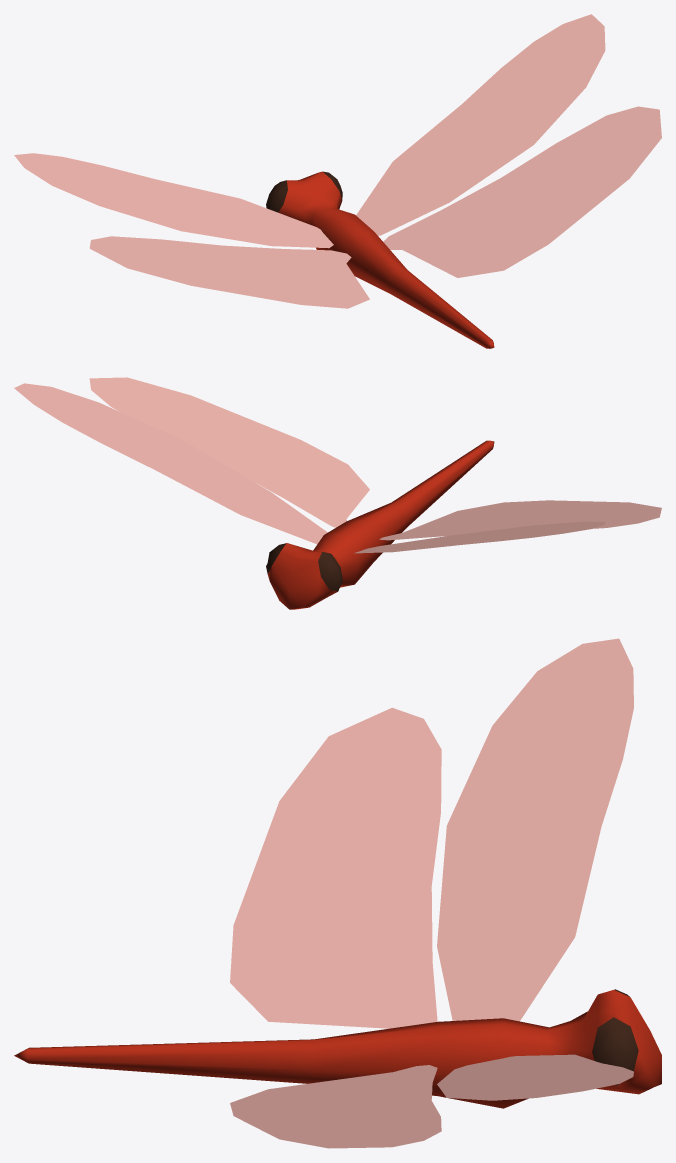
The model's file is Dragonfly_2.gltf.
3 views of the same model, one above another, from view 1: azimuth 30°, elevation 25°; view 2: azimuth 150°, elevation 25°; view 3: azimuth 270°, elevation 25° (orthographic). The views are drawn at different scales.
Parts seen in each view (by area): view 1: Dragonfly_2; view 2: Dragonfly_2; view 3: Dragonfly_2.
Part boxes in pixels (bbox=[...]): Dragonfly_2: bbox=[14, 14, 661, 348]; Dragonfly_2: bbox=[14, 377, 661, 609]; Dragonfly_2: bbox=[14, 638, 661, 1148].
Bounding box in the file's own units: 23.99 × 6.16 × 14.68.
Materials: 1 (1 with a texture image).
